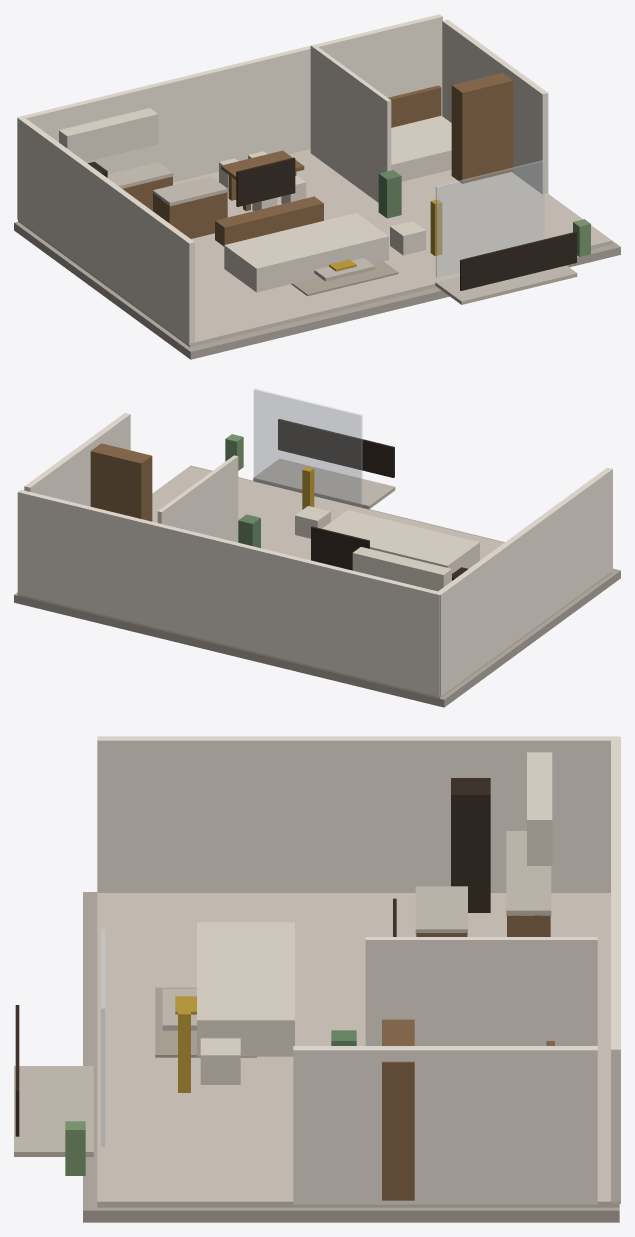
File: apartment.glb
3 views of the same model, one above another, from view 1: azimuth 30°, elevation 25°; view 2: azimuth 150°, elevation 25°; view 3: azimuth 270°, elevation 25° (orthographic). The views are drawn at different scales.
Visible parts, largest first — view 1: Wall_North, Floor, Wall_West, SlidingGlass, BedroomPartition, Sofa, Wall_East, Wardrobe, Plinth, BalconyRail, UpperCabinets, Bed (+15 smaller); view 2: Wall_North, Wall_West, SlidingGlass, Floor, Plinth, Sofa, BedroomPartition, Wardrobe, BalconyRail, Wall_East, BalconyFloor, UpperCabinets (+5 smaller); view 3: Wall_West, Floor, Wall_East, BedroomPartition, Sofa, Plinth, BalconyFloor, Wardrobe, Fridge, Wall_North, Counter, UpperCabinets (+9 smaller).
Boxes of the visible parts, box(x1,y1,x2,y2) form: Wall_North: box(17, 14, 442, 182); Floor: box(18, 149, 611, 347); Wall_West: box(17, 116, 194, 345); SlidingGlass: box(436, 160, 544, 277); BedroomPartition: box(310, 44, 391, 202); Sofa: box(224, 213, 388, 292); Wall_East: box(442, 19, 548, 194); Wardrobe: box(451, 72, 513, 183); Plinth: box(14, 194, 620, 359); BalconyRail: box(460, 231, 576, 290); UpperCabinets: box(59, 108, 158, 161); Bed: box(391, 115, 451, 181); Wall_North: box(17, 489, 441, 696); Wall_West: box(436, 467, 612, 696); SlidingGlass: box(254, 388, 362, 505); Floor: box(18, 466, 611, 698); Plinth: box(14, 465, 620, 707); Sofa: box(322, 510, 479, 573); BedroomPartition: box(157, 455, 238, 542); Wardrobe: box(90, 443, 152, 521); BalconyRail: box(278, 419, 394, 477); Wall_East: box(24, 413, 130, 506); BalconyFloor: box(253, 459, 395, 509); UpperCabinets: box(352, 547, 451, 591); Wall_West: box(97, 736, 619, 892); Floor: box(97, 893, 619, 1207); Wall_East: box(293, 1046, 597, 1204); BedroomPartition: box(365, 937, 597, 1045); Sofa: box(197, 922, 294, 1056); Plinth: box(83, 892, 619, 1222); BalconyFloor: box(14, 1066, 93, 1156); Wardrobe: box(382, 1019, 414, 1200); Fridge: box(451, 778, 490, 912); Wall_North: box(611, 737, 620, 1203); Counter: box(506, 831, 551, 915); UpperCabinets: box(527, 752, 552, 865).
Size of the model in its own units: 10.4 by 2.76 by 8.37.
